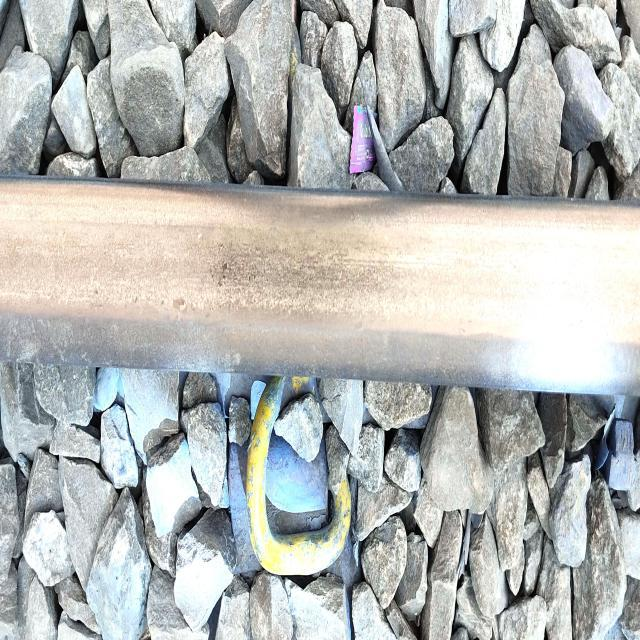Good Fasteners: (217, 367, 352, 582)
